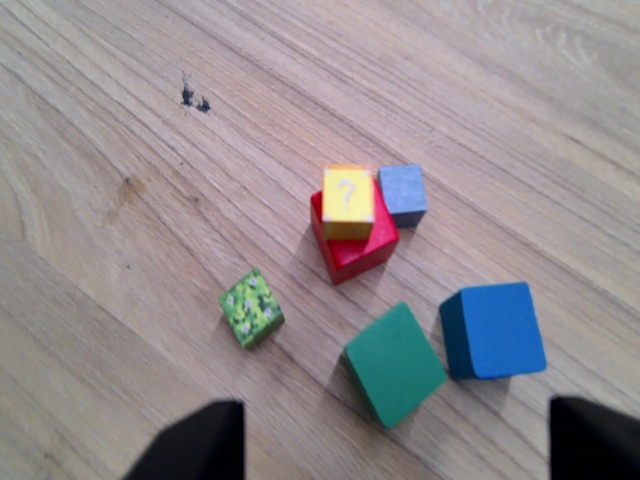grass: (211, 271, 286, 345)
lucky: (318, 161, 378, 235)
stone: (377, 160, 430, 230)
